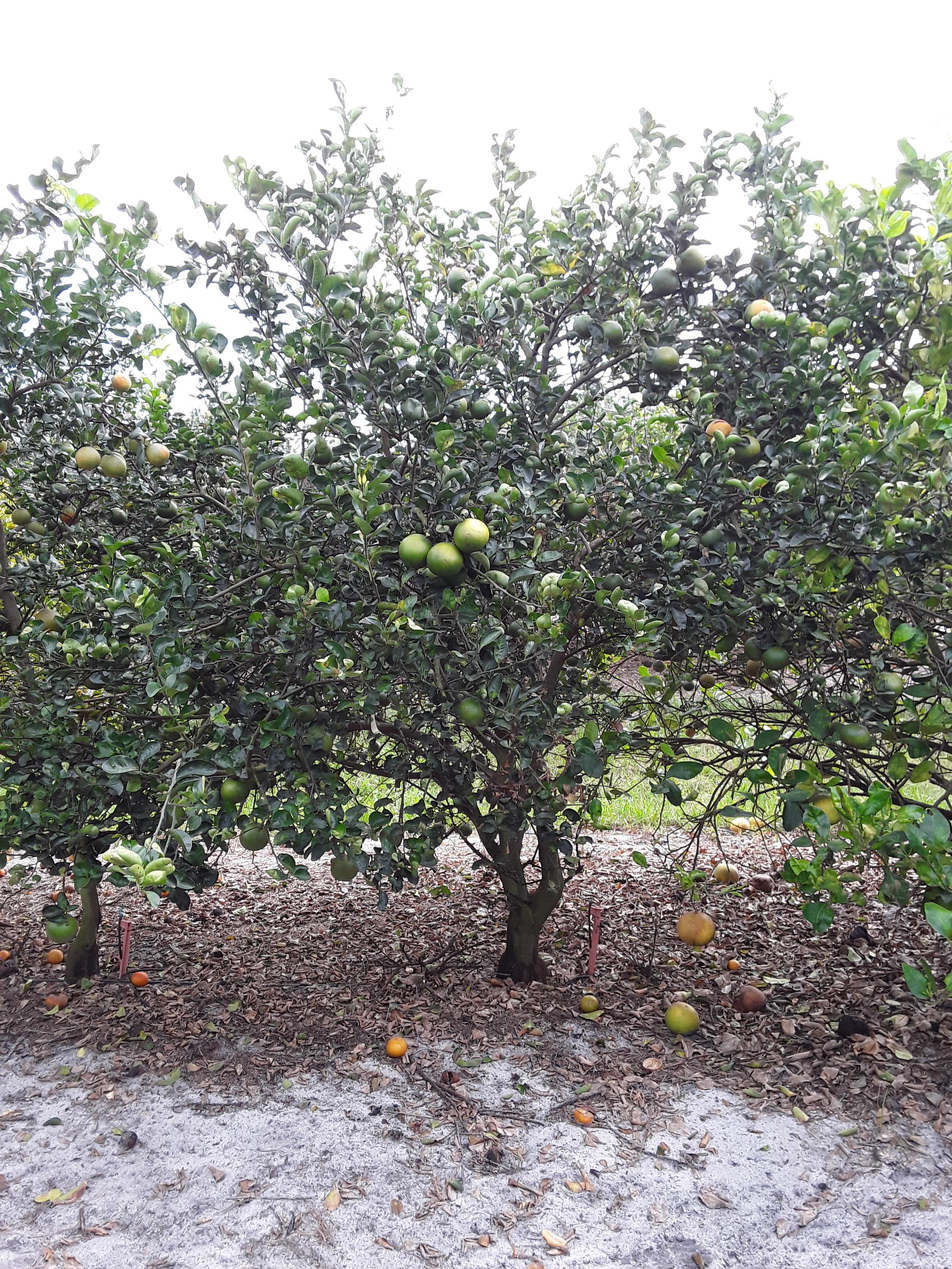fruit_on_ground: (673, 885, 718, 953), (452, 513, 491, 555), (395, 531, 435, 571), (426, 539, 465, 578), (302, 437, 341, 474), (806, 787, 845, 822), (219, 775, 259, 806), (453, 690, 486, 726), (322, 638, 360, 669), (676, 244, 711, 277), (732, 431, 763, 468), (237, 821, 273, 851), (743, 297, 777, 328), (872, 668, 905, 699), (649, 266, 682, 297), (303, 725, 335, 756), (598, 316, 630, 347), (701, 416, 735, 445), (33, 609, 68, 637), (331, 851, 362, 882), (762, 643, 793, 673), (650, 347, 684, 373), (569, 312, 598, 342), (840, 722, 872, 749), (441, 391, 470, 419), (73, 446, 103, 473), (562, 493, 590, 521), (446, 266, 474, 294), (256, 610, 281, 640), (125, 429, 152, 454), (145, 442, 172, 467), (684, 507, 712, 531), (166, 674, 198, 695), (104, 373, 135, 393), (105, 506, 131, 529), (743, 638, 768, 661), (603, 572, 630, 593), (470, 397, 492, 422), (205, 674, 229, 696), (700, 528, 727, 547), (254, 567, 277, 589), (843, 638, 868, 657), (297, 702, 318, 724), (679, 537, 704, 555), (741, 658, 765, 676), (155, 499, 178, 517), (9, 509, 34, 525), (506, 619, 527, 638), (457, 822, 481, 838), (376, 690, 394, 709), (699, 673, 717, 689), (367, 737, 383, 755), (344, 752, 363, 766), (566, 652, 580, 668), (653, 659, 668, 673), (684, 727, 698, 739), (682, 680, 695, 692)
fruit_on_tree: (657, 1001, 709, 1044), (833, 1010, 878, 1049), (731, 982, 772, 1016), (743, 865, 781, 896), (381, 1033, 416, 1060), (572, 989, 604, 1017), (567, 1106, 604, 1130), (38, 938, 68, 967), (37, 990, 77, 1011), (125, 968, 154, 991), (716, 863, 742, 888), (115, 1127, 138, 1152), (746, 811, 769, 833), (728, 814, 749, 836), (726, 956, 742, 974), (50, 888, 67, 904), (0, 945, 12, 966), (65, 881, 79, 892), (0, 865, 9, 881)
